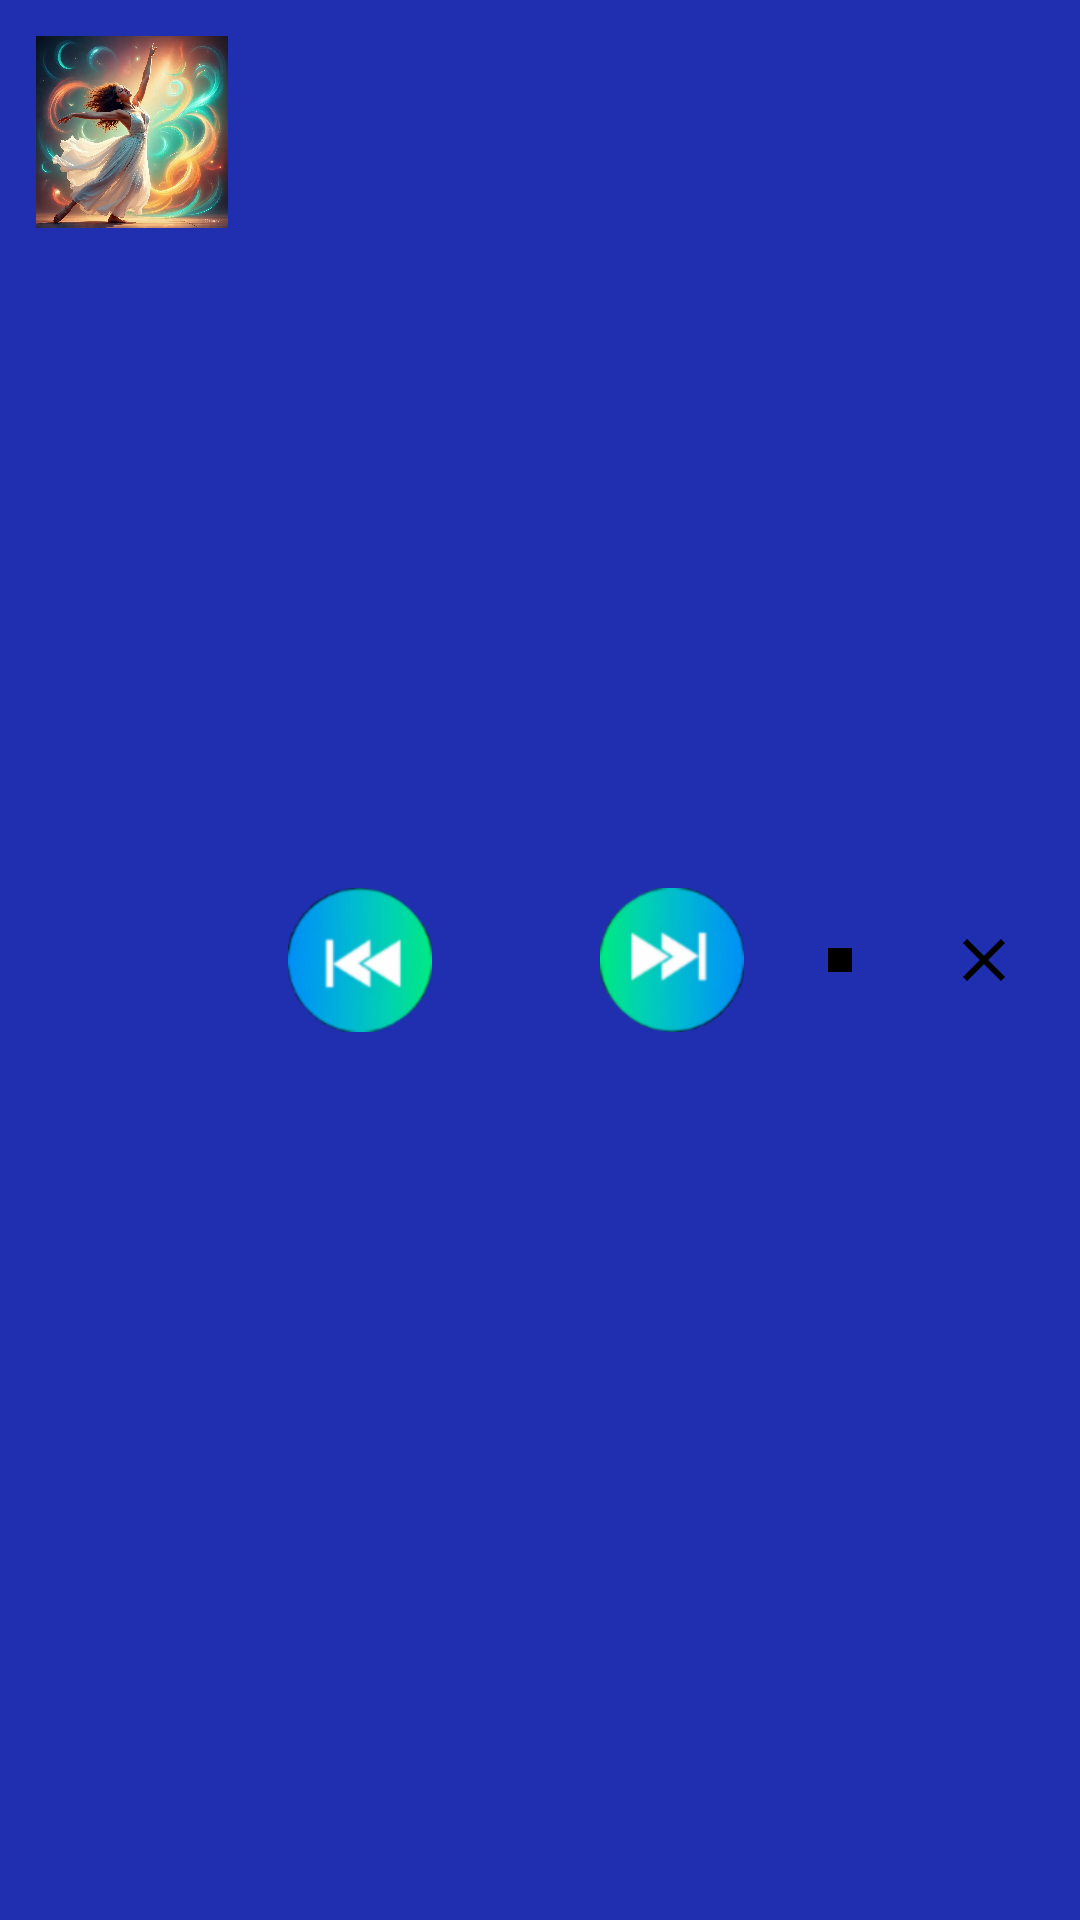

Icon bounding boxes for this 1080 × 1920 phone screenshot, format (x1, y1, x2, y2):
album art: (36, 36, 228, 228)
Close: (963, 939, 1005, 981)
Next: (600, 888, 744, 1032)
Previous: (288, 888, 432, 1032)
